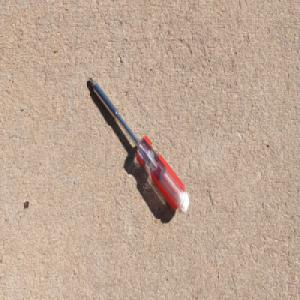Screwdriver: (88, 76, 190, 215)
